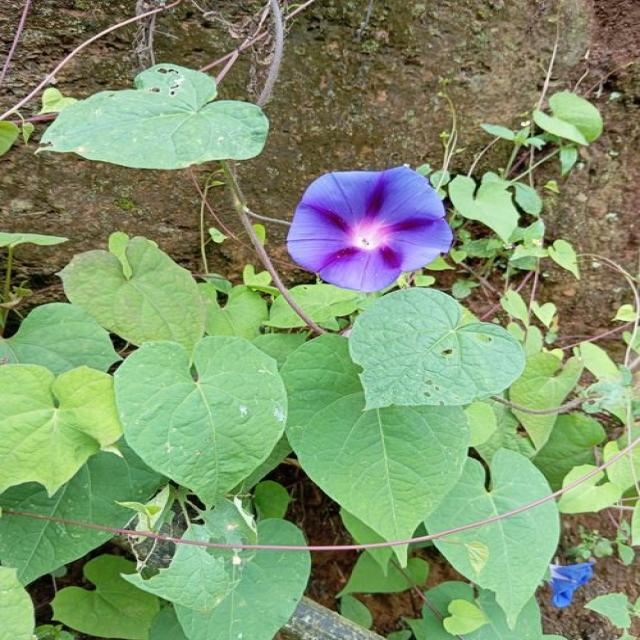ipomoea: (282, 164, 457, 295)
